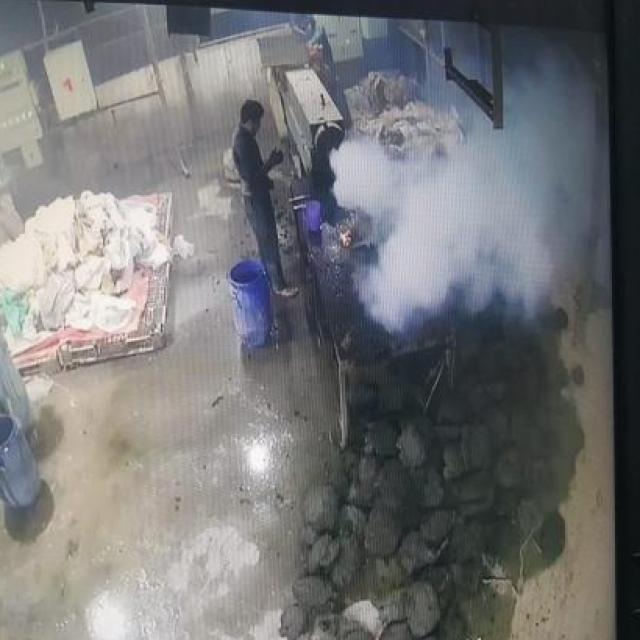fire: (332, 36, 614, 337)
